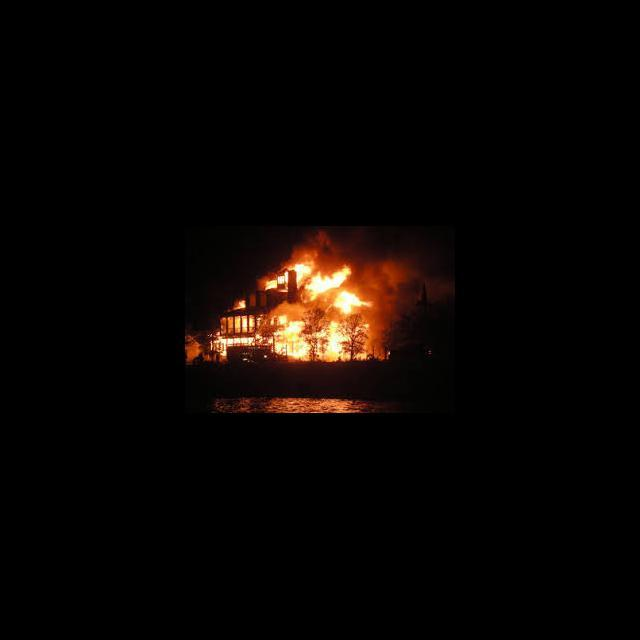Fire: (212, 313, 366, 363), (263, 262, 354, 298), (333, 290, 371, 314), (231, 300, 248, 312)
Smoke: (366, 232, 450, 292), (290, 232, 352, 258)
